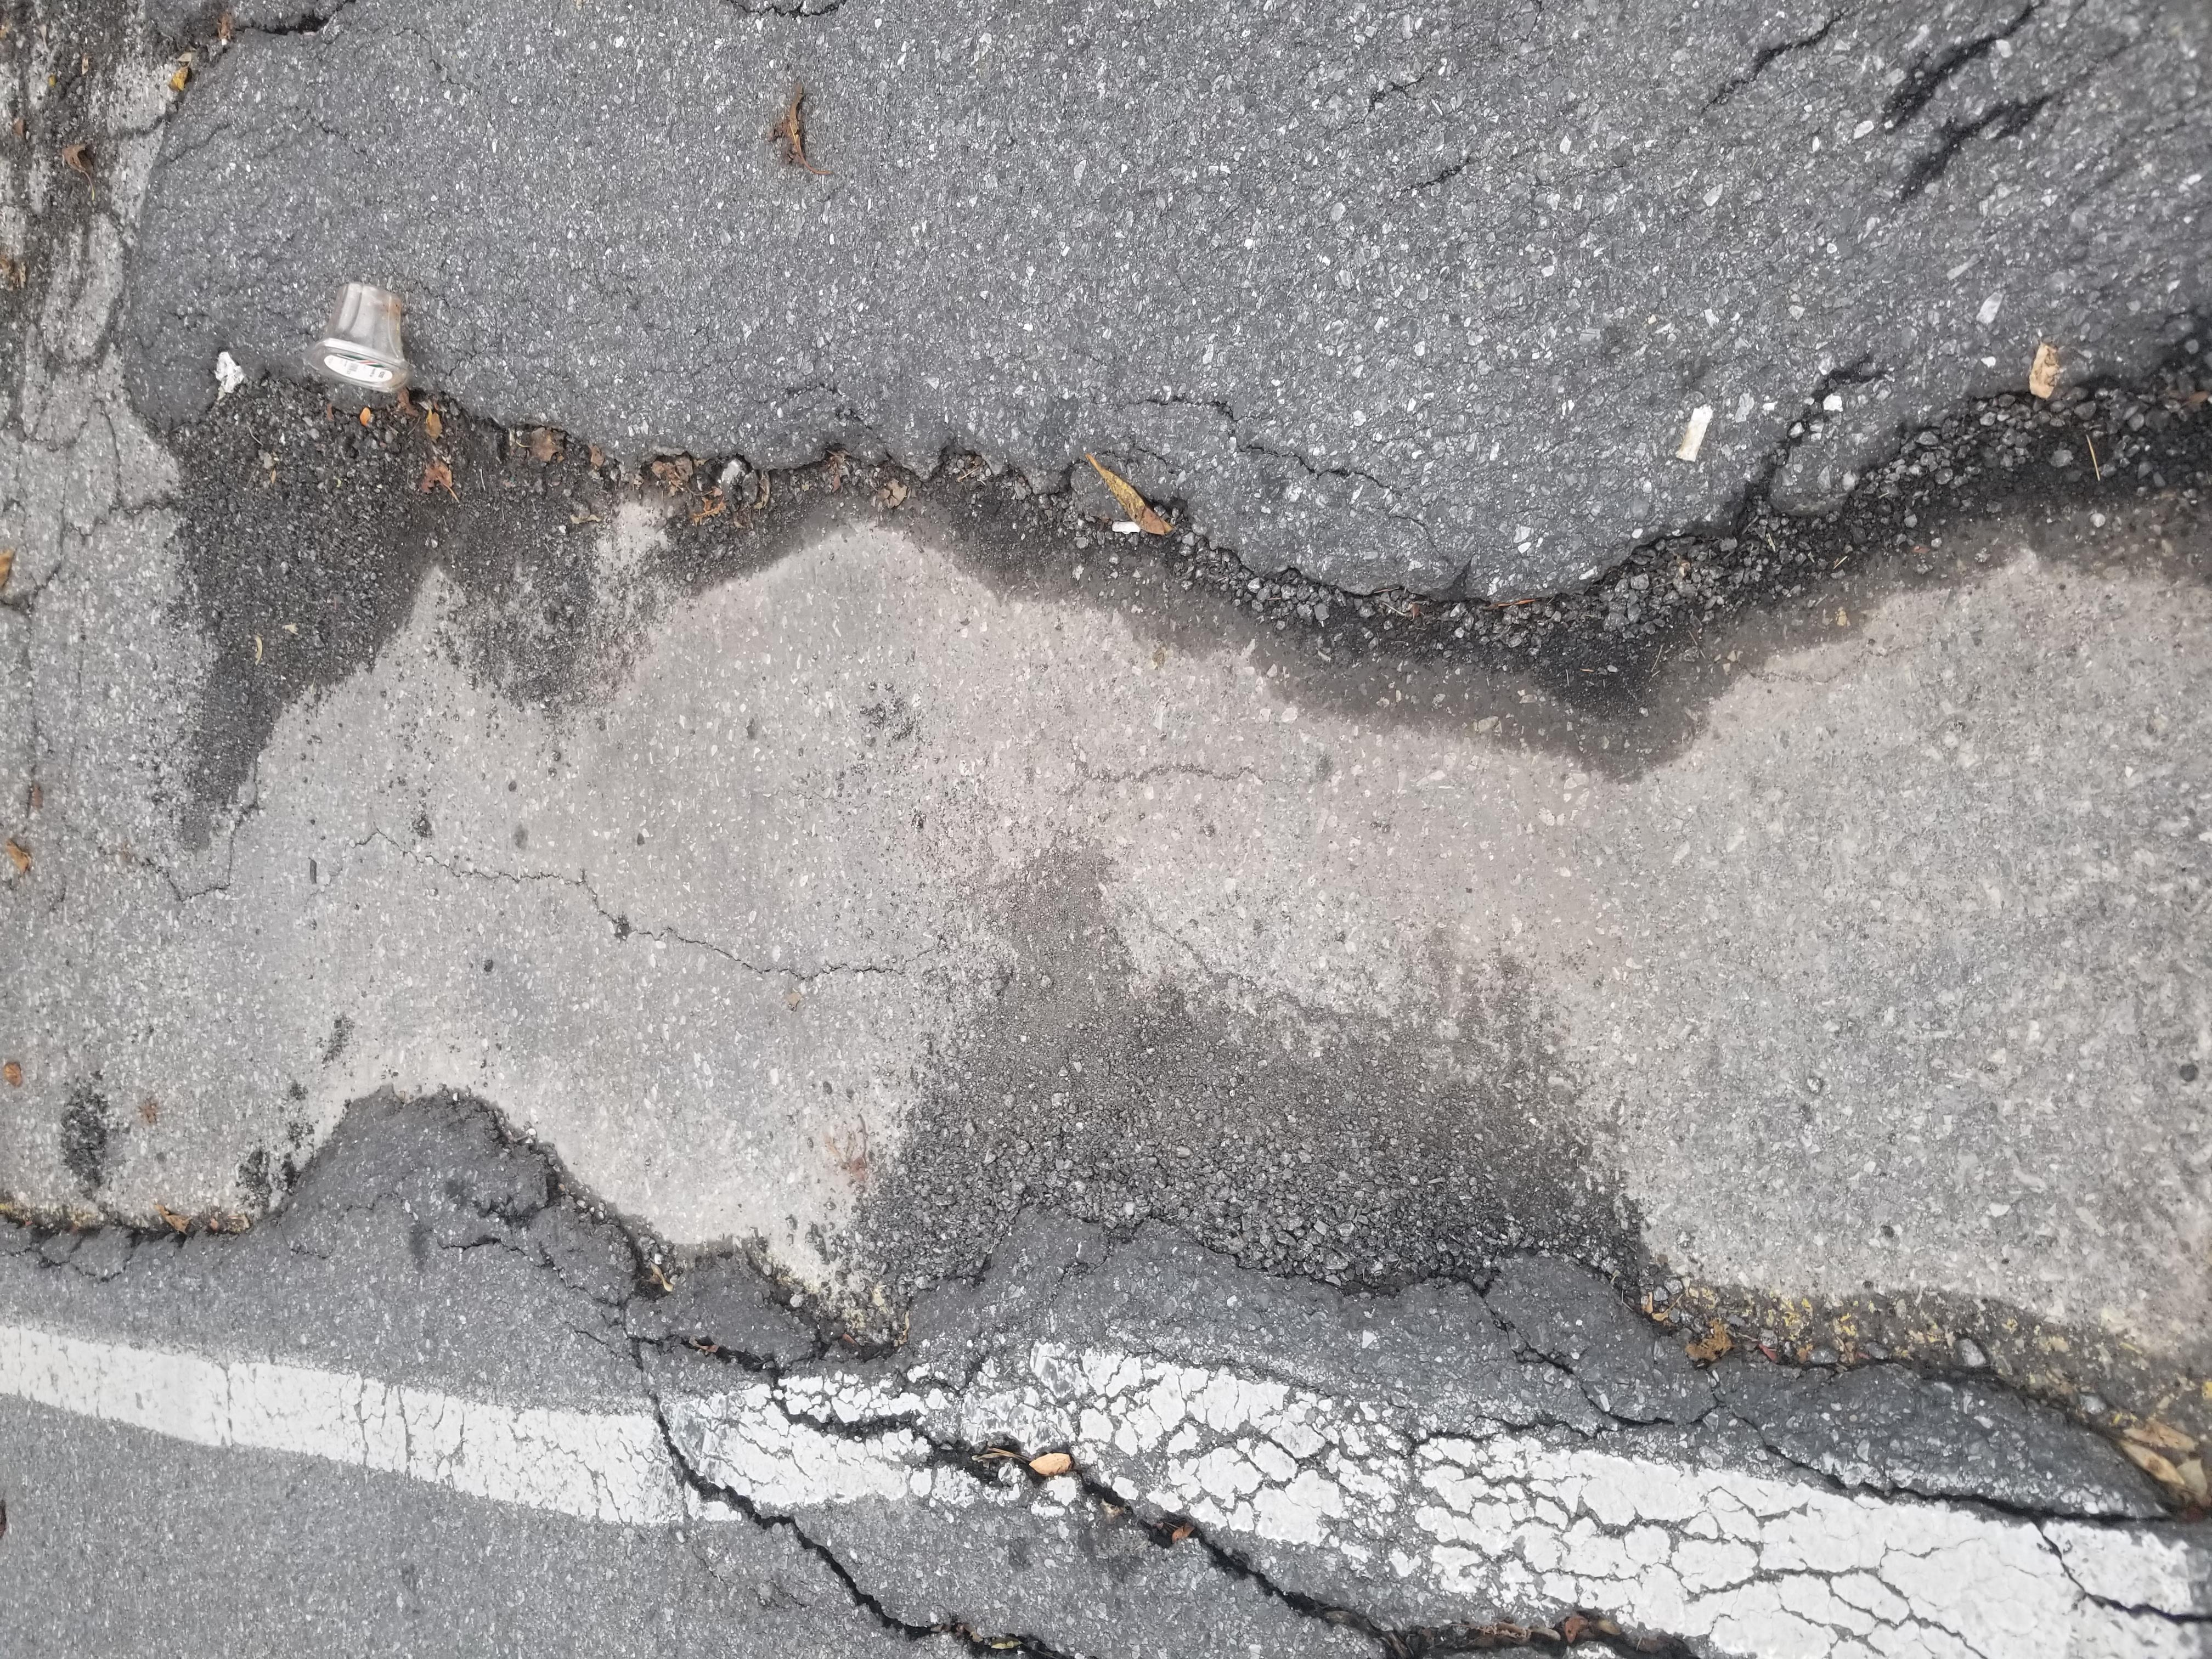alligator-crack: (0, 235, 690, 1659), (1714, 1091, 2212, 1659), (1538, 0, 2212, 197)
pothole: (418, 0, 1712, 1659)
